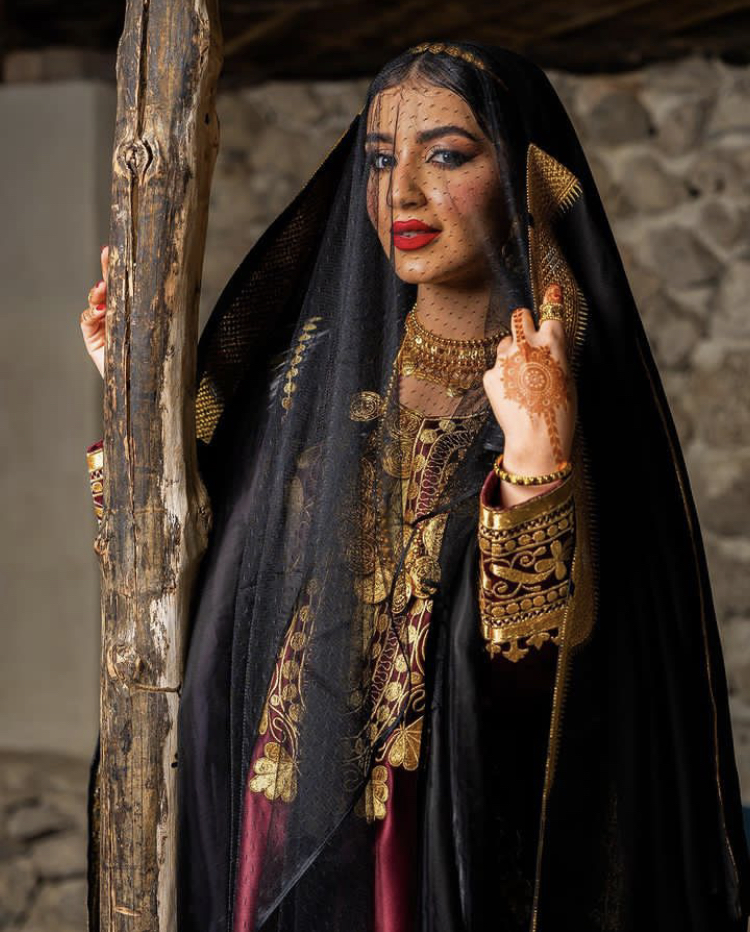Saudi_Founding_Day: (74, 37, 749, 931)
